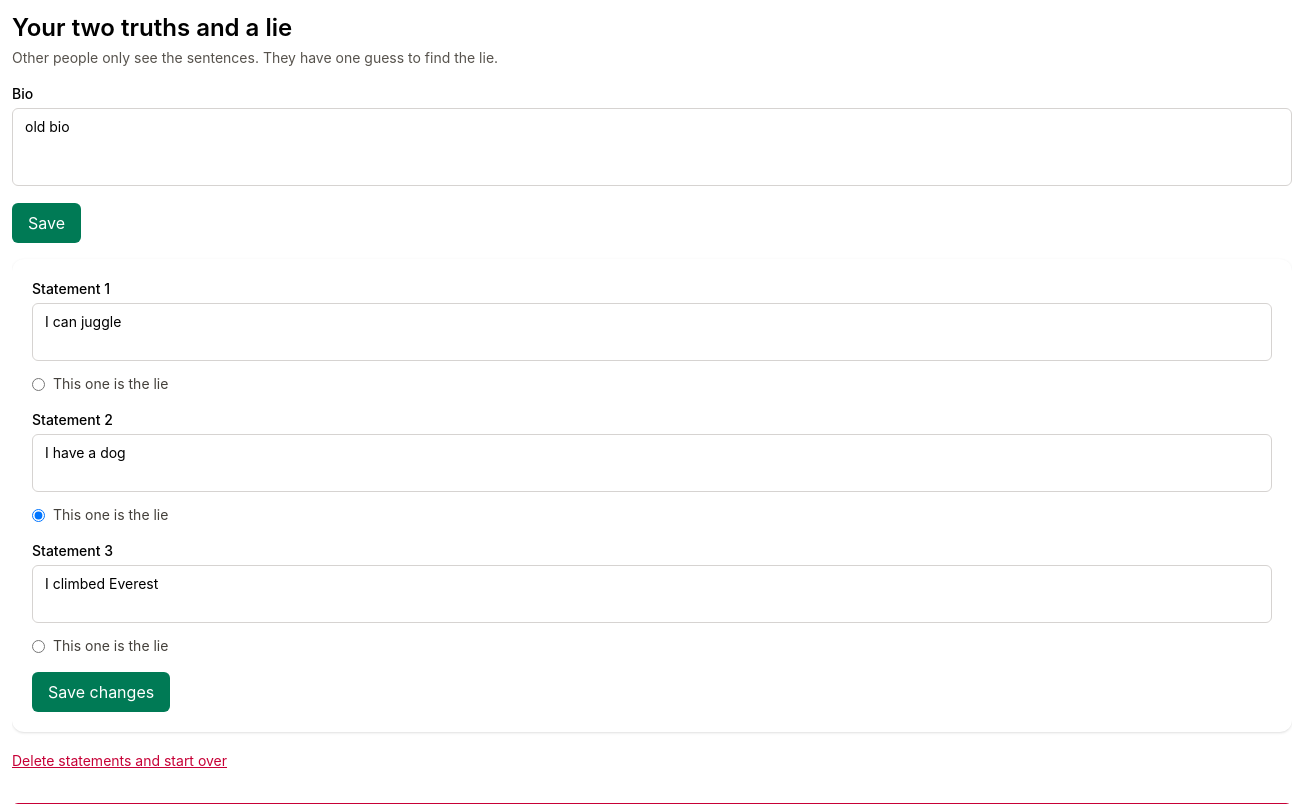
Test case: deleting statements asks before it removes them
Click the button "Delete statements and start over" at (120, 761), box [12, 751, 227, 771]
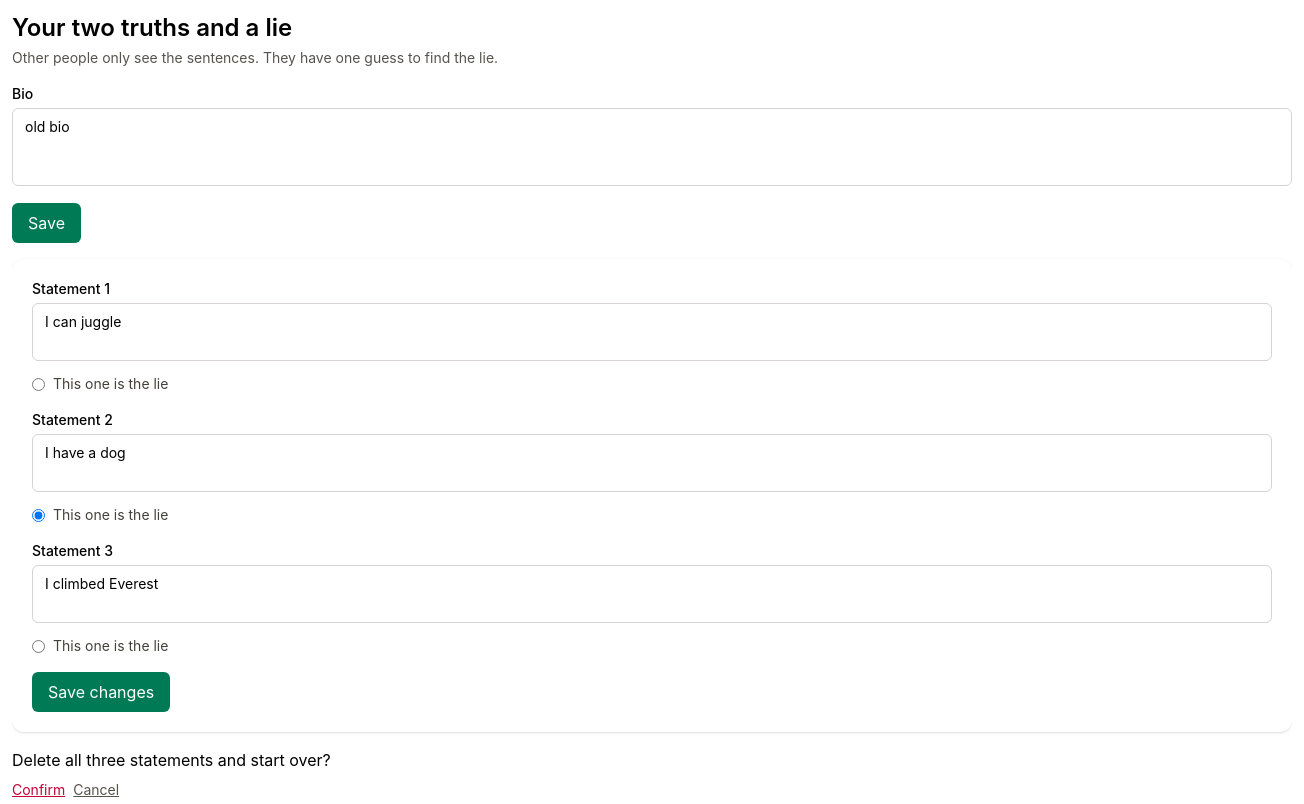
Expected: the text "Delete all three statements and start over?" is shown, [12, 750, 331, 770]
Click the button "Cancel" at (96, 790), box [73, 780, 119, 800]
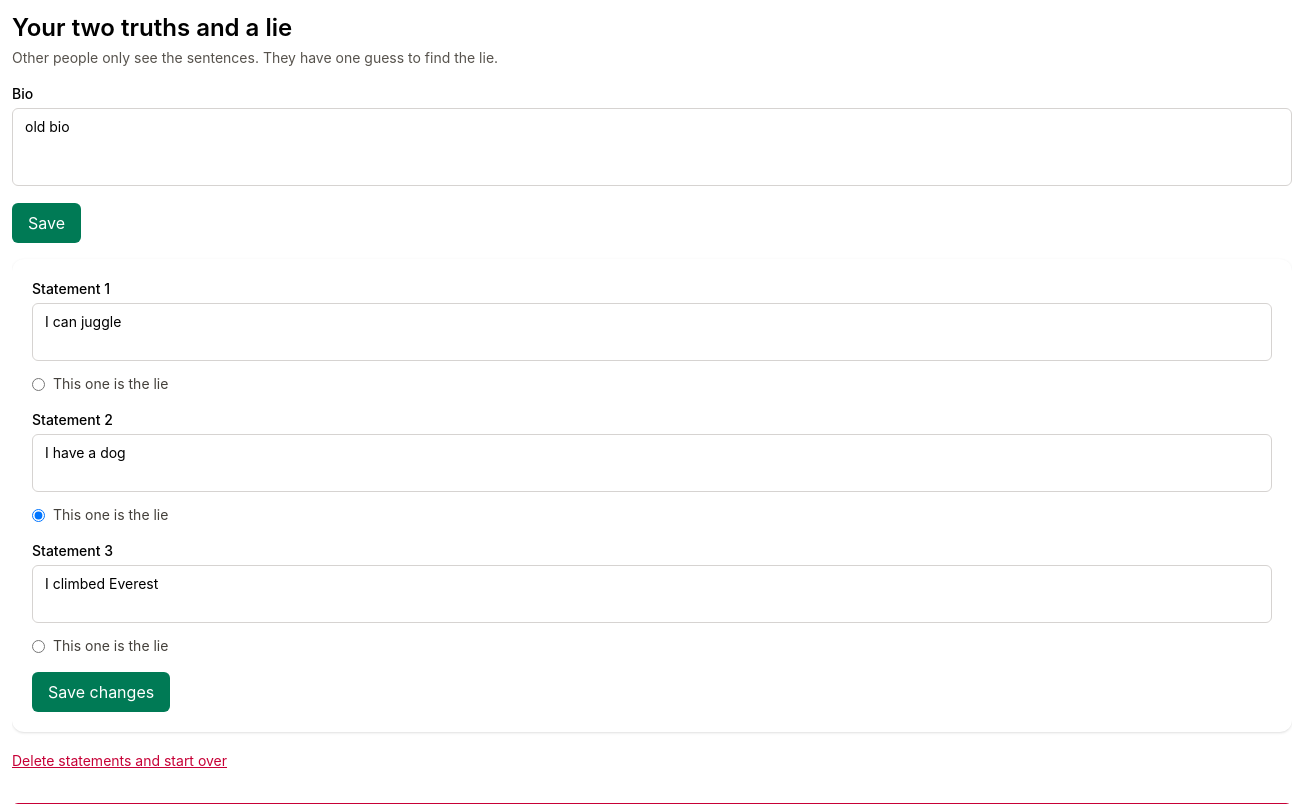
Expected: the text "Delete all three statements and start over?" is gone
Click the button "Delete statements and start over" at (120, 761), box [12, 751, 227, 771]
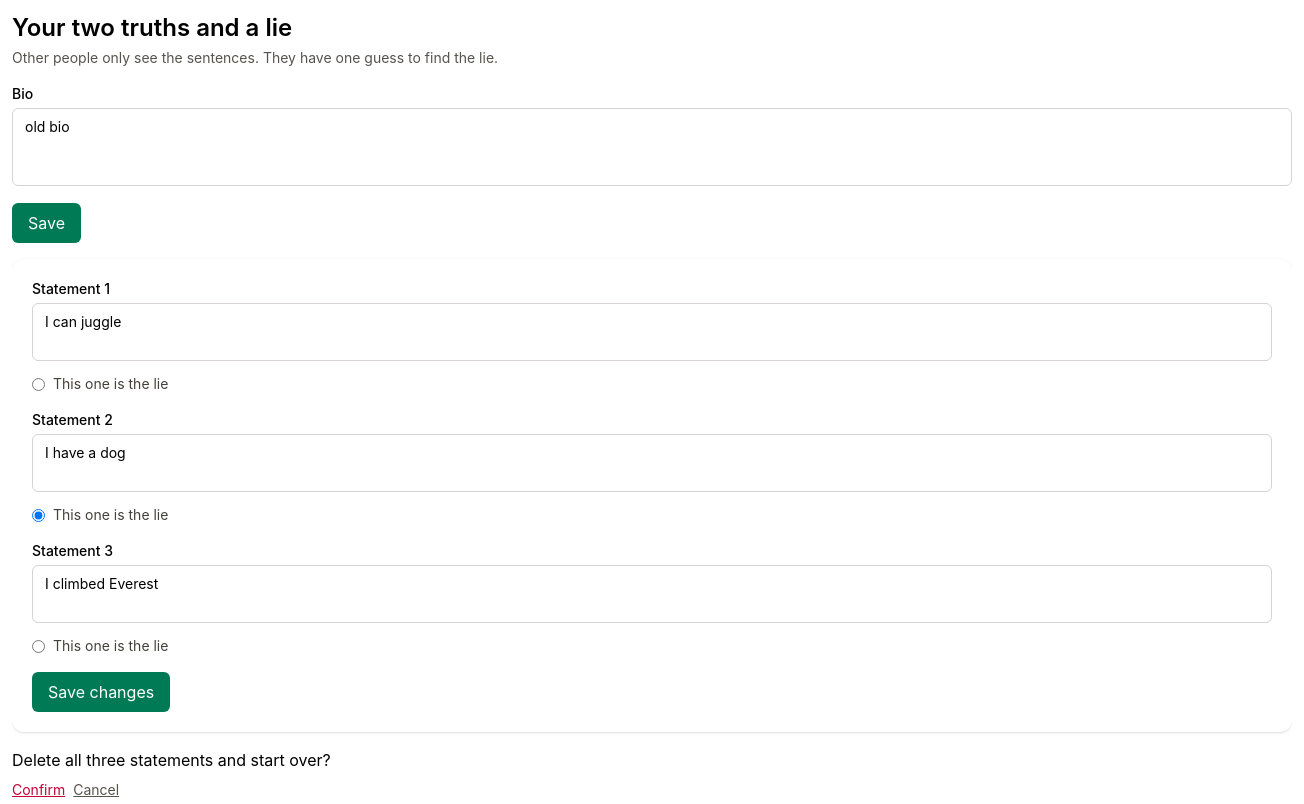
Click the button "Confirm" at (39, 790), box [12, 780, 65, 800]
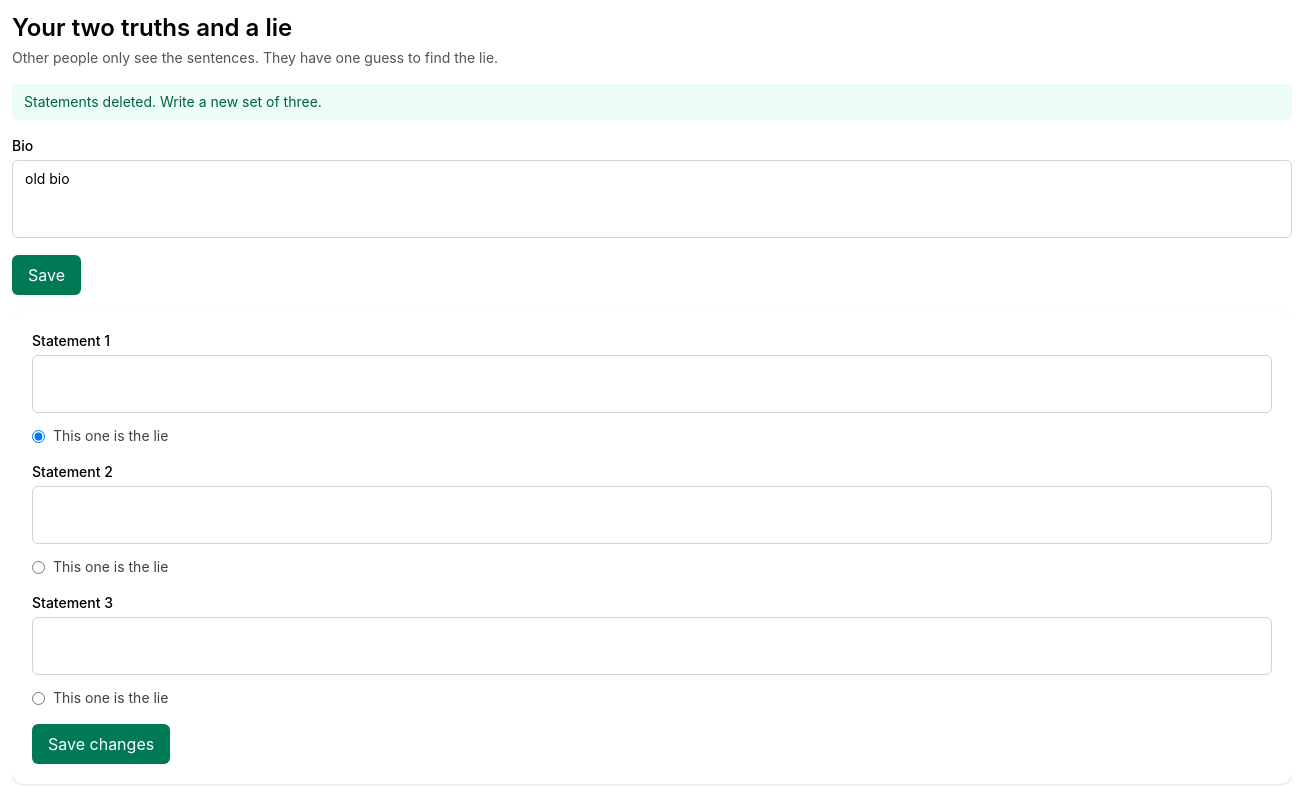
Expected: the message reads "Statements deleted. Write a new set of three.", [24, 93, 322, 110]
